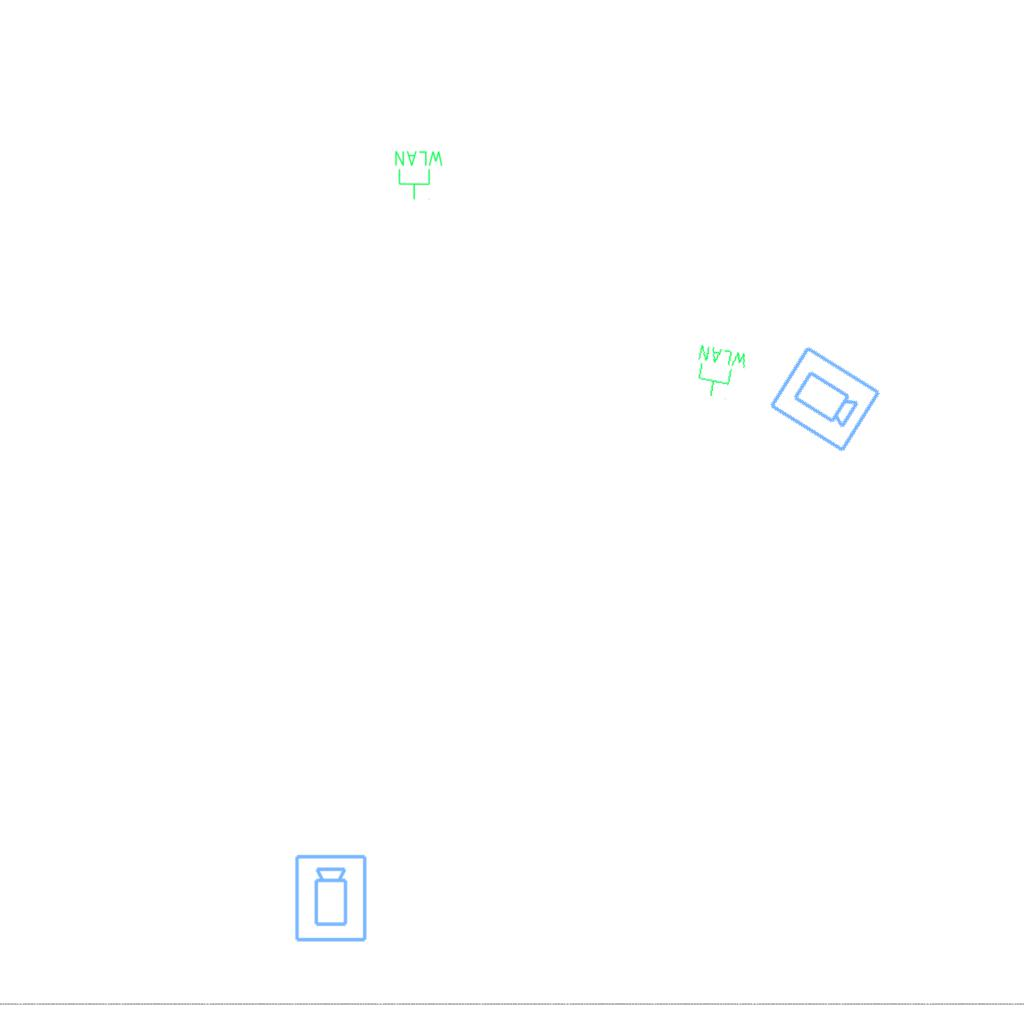KFO_Kamera_mit_Festobjektiv: (765, 342, 884, 457), (293, 853, 370, 944)
WLAN: (689, 342, 751, 404), (393, 149, 445, 201)
